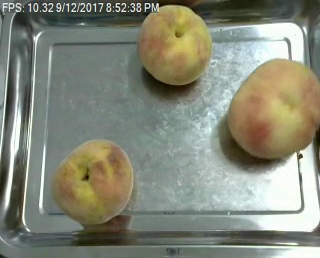Peach: (228, 57, 319, 158), (51, 137, 135, 226), (138, 4, 211, 85)
